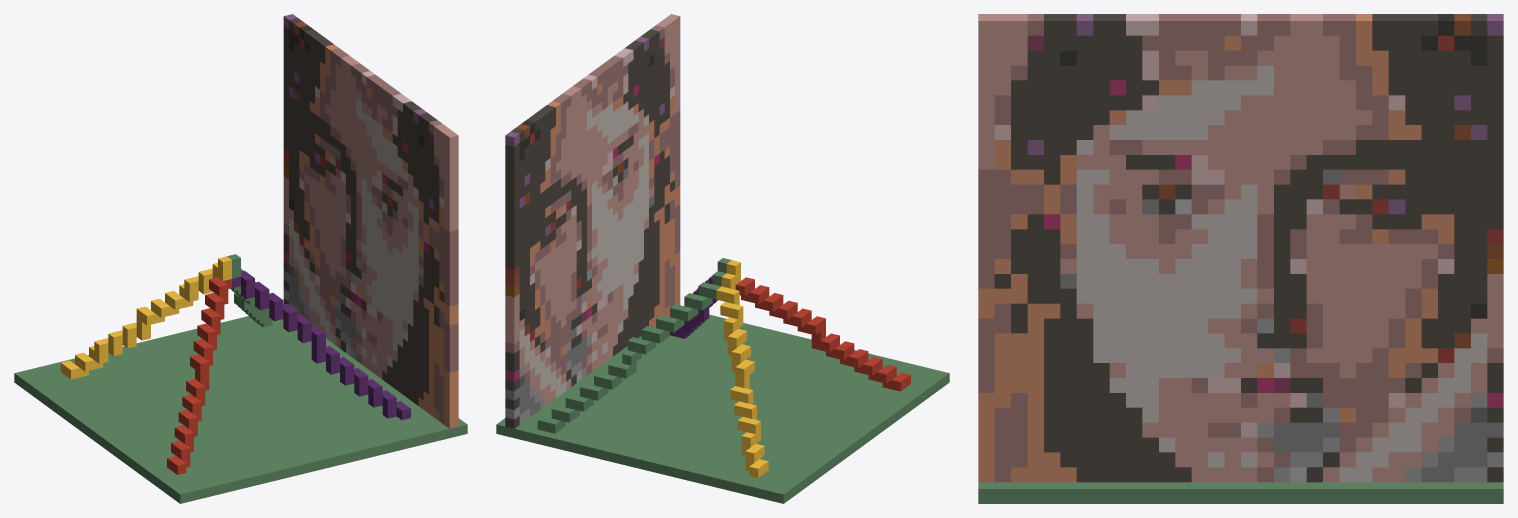
Rendered from voxel.gltf.
3 renders of one model, left to right at view 1: azimuth 30°, elevation 25°; view 2: azimuth 150°, elevation 25°; view 3: azimuth 270°, elevation 25°, orthographic. The views are drawn at different scales.
Parts seen in each view (by area): view 1: unnamed; view 2: unnamed; view 3: unnamed.
Part boxes in pixels (x1,y1,x2,y2): unnamed: (14, 14, 467, 503); unnamed: (496, 14, 949, 503); unnamed: (978, 14, 1503, 503).
Bounding box in the file's own units: 32 × 32 × 32.
1 material, 1 textured.
